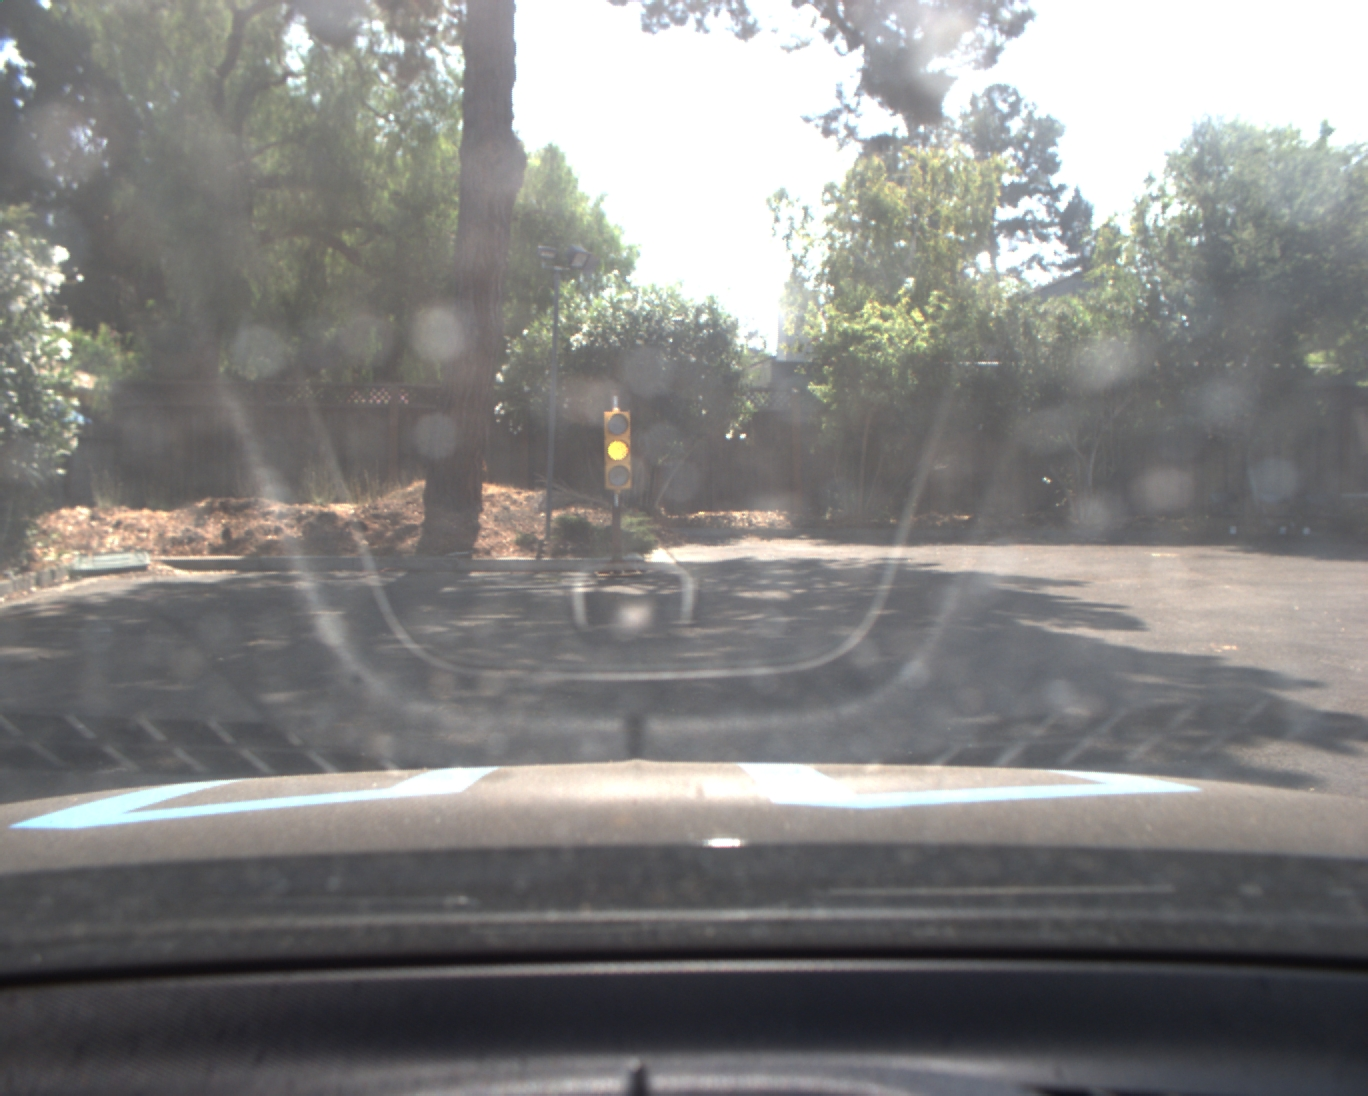yellow: (597, 409, 637, 493)
